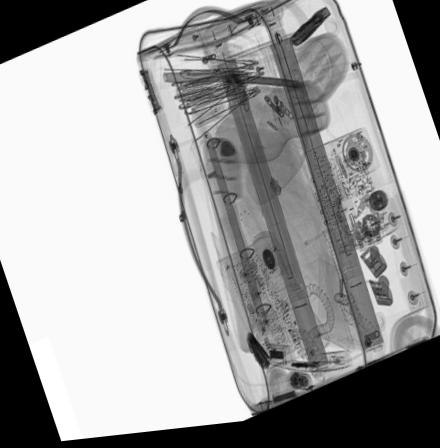Knife: (286, 10, 331, 54)
